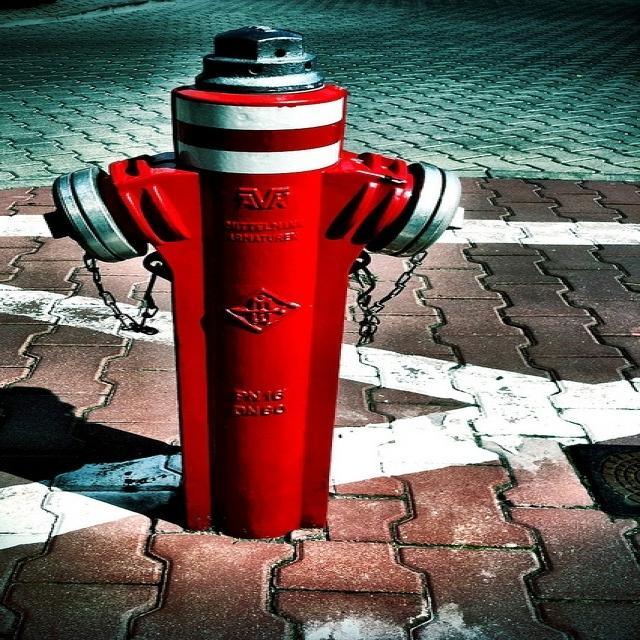fire_hydrant: (137, 32, 393, 584)
